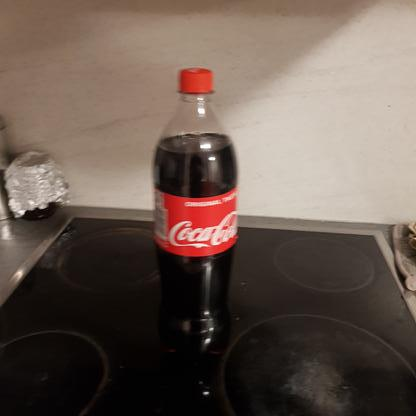coca-cola: (148, 65, 241, 368)
